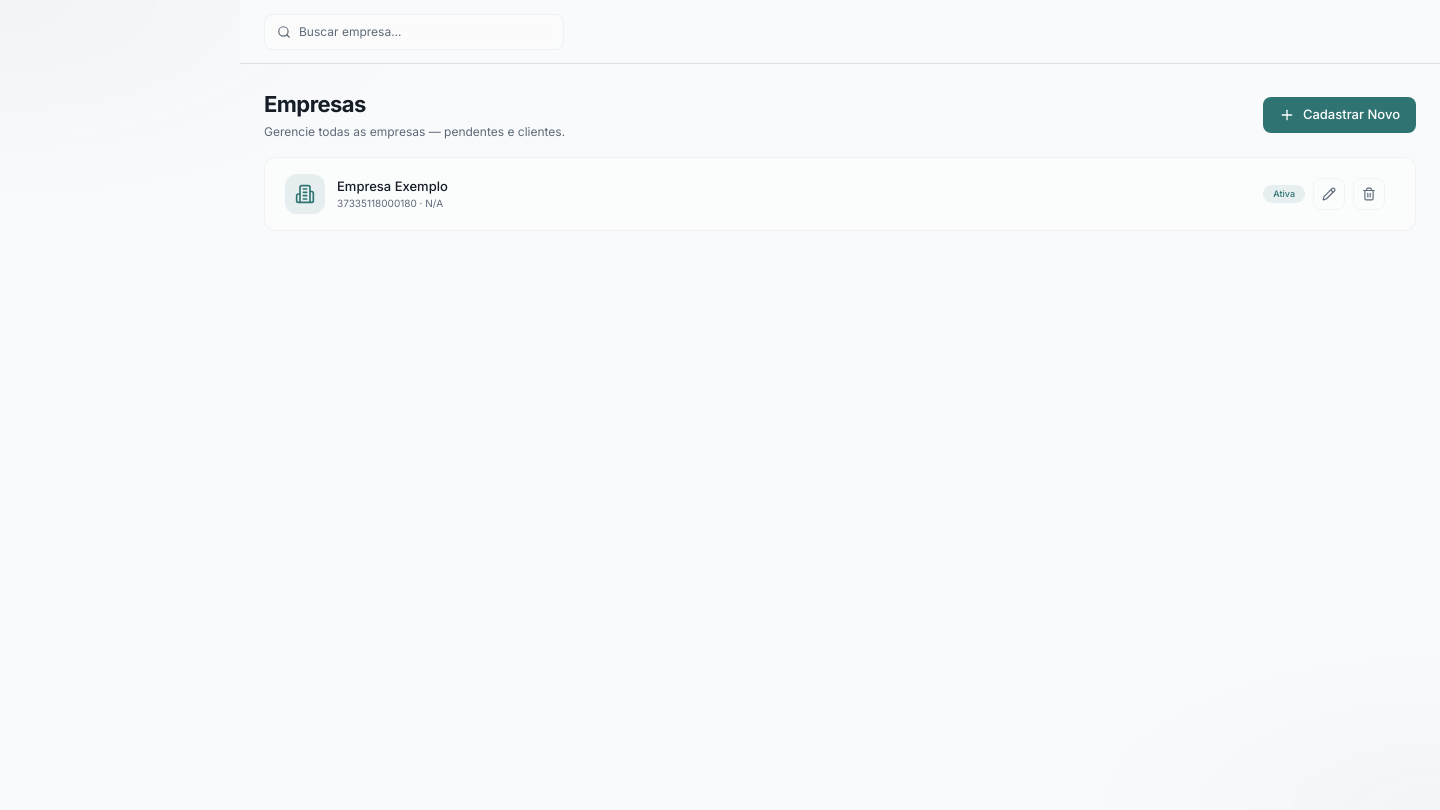
detalhes da empresa › abre a empresa com dados cadastrais preenchidos
Click the text "Empresa Exemplo". click: (392, 187)
box: [337,177,448,196]
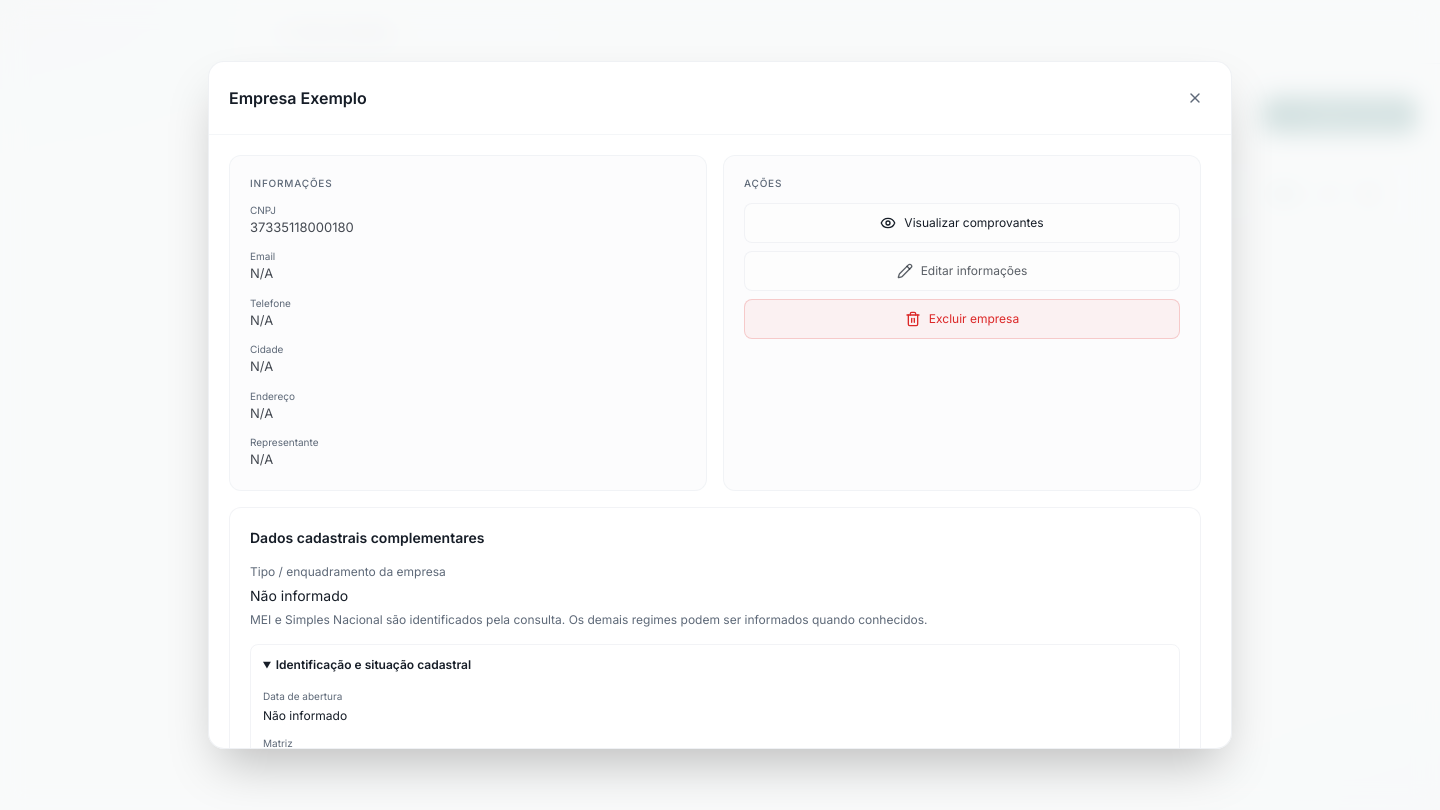
Result: the heading "Empresa Exemplo" is shown at [229,86,367,110]
Result: the heading "Dados cadastrais complementares" is shown at [250,529,484,546]
Result: the button "Visualizar comprovantes" is shown at [744,203,1180,243]
